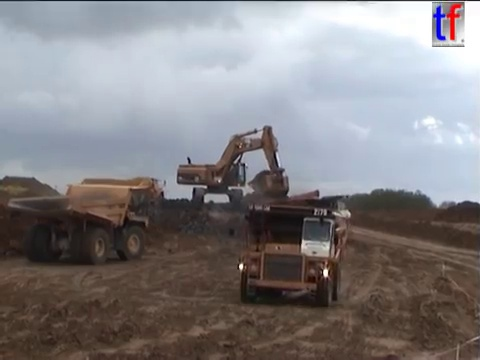excavator: (174, 123, 292, 210), (240, 188, 322, 221)
truck: (227, 202, 351, 307), (5, 181, 150, 266), (250, 194, 351, 246), (80, 175, 168, 208)
